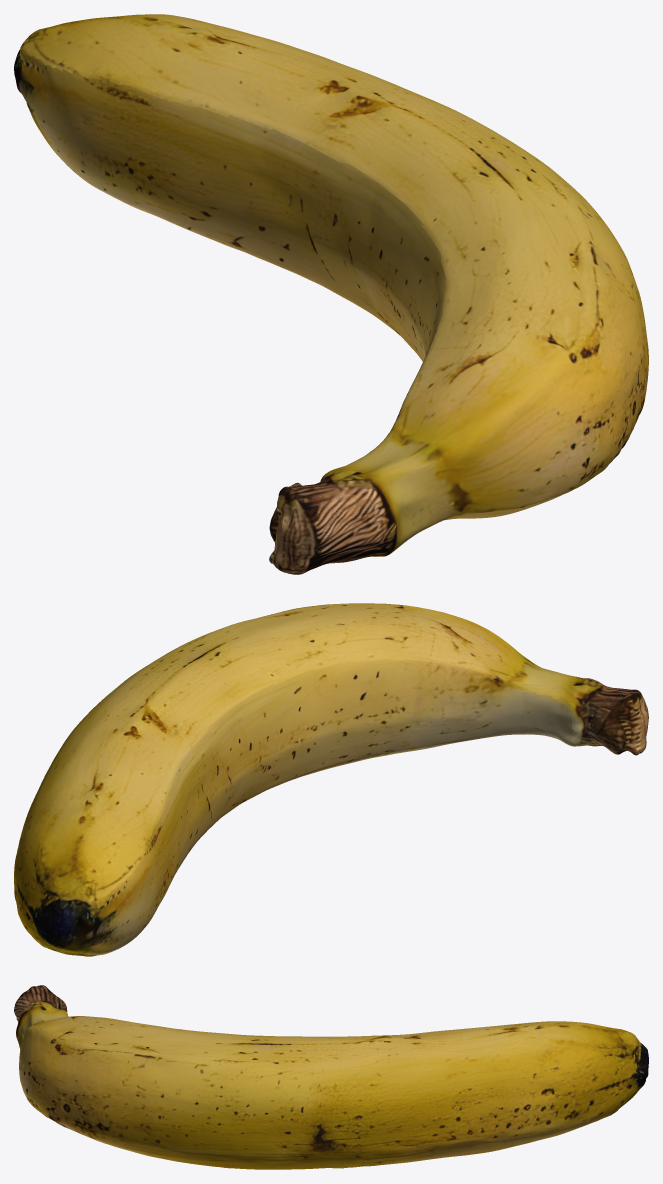
The model's file is iter_13.glb.
The picture shows the model from 3 angles, top to bottom: view 1: azimuth 30°, elevation 25°; view 2: azimuth 150°, elevation 25°; view 3: azimuth 270°, elevation 25°; orthographic projection. The views are drawn at different scales.
Parts seen in each view (by area): view 1: textured_mesh; view 2: textured_mesh; view 3: textured_mesh.
Boxes of the visible parts, box(x1,y1,x2,y2) form: textured_mesh: box(14, 14, 648, 574); textured_mesh: box(14, 603, 648, 956); textured_mesh: box(14, 985, 648, 1169).
Bounding box in the file's own units: 1.1 × 0.4078 × 1.99.
Materials: 1 (1 with a texture image).
